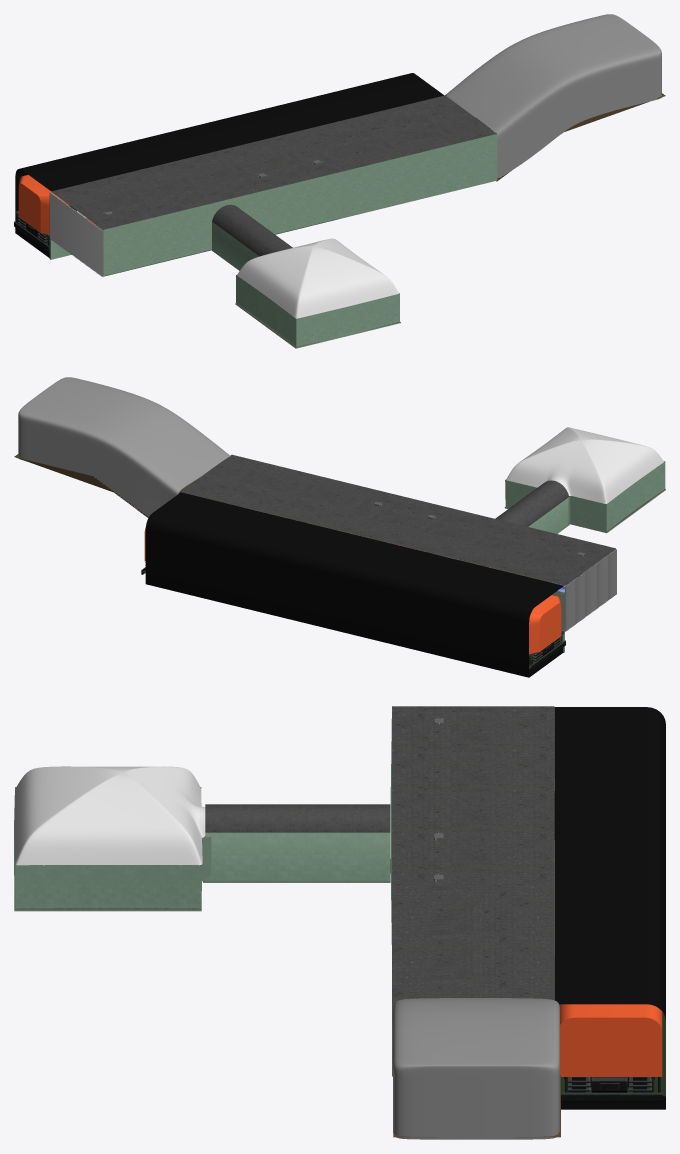
File: Estacion del metro 2.fbx
3 renders of one model, top to bottom at view 1: azimuth 30°, elevation 25°; view 2: azimuth 150°, elevation 25°; view 3: azimuth 270°, elevation 25°, orthographic. The views are drawn at different scales.
Visible parts, largest first — view 1: Cube.002, Cube.012, Cube.003, Icosphere.001, Icosphere, Cylinder, Cylinder.001, Cube.005; view 2: Cube.003, Cube.002, Cube.012, Icosphere.001, Icosphere, Cylinder.001, Cylinder, Cube.005, Material2.001, Cube.004; view 3: Cube.002, Cube.003, Cube.012, Icosphere.001, Cylinder, Icosphere, Cube.011, Cube.010, Cube.
Boxes of the visible parts, box(x1,y1,x2,y2) form: Cube.002: box(49, 95, 497, 276); Cube.012: box(445, 14, 661, 178); Cube.003: box(15, 73, 444, 257); Icosphere.001: box(237, 238, 398, 318); Icosphere: box(236, 275, 399, 346); Cylinder: box(212, 204, 292, 269); Cylinder.001: box(49, 192, 102, 276); Cube.005: box(18, 174, 96, 234); Cube.003: box(145, 492, 563, 677); Cube.002: box(181, 454, 615, 652); Cube.012: box(18, 377, 230, 517); Icosphere.001: box(506, 427, 663, 503); Icosphere: box(505, 461, 665, 531); Cylinder.001: box(565, 549, 616, 631); Cylinder: box(495, 480, 568, 533); Cube.005: box(529, 595, 561, 653); Material2.001: box(14, 454, 135, 507); Cube.004: box(529, 635, 565, 669); Cube.002: box(390, 706, 554, 1076); Cube.003: box(554, 707, 665, 1109); Cube.012: box(393, 998, 559, 1139); Icosphere.001: box(14, 766, 205, 865); Cylinder: box(205, 804, 390, 881); Icosphere: box(14, 787, 211, 908); Cube.011: box(559, 1004, 662, 1076); Cube.010: box(561, 1077, 662, 1101); Cube: box(14, 862, 201, 911).
Bounding box in the file's own units: 16899 × 3168 × 10882.
